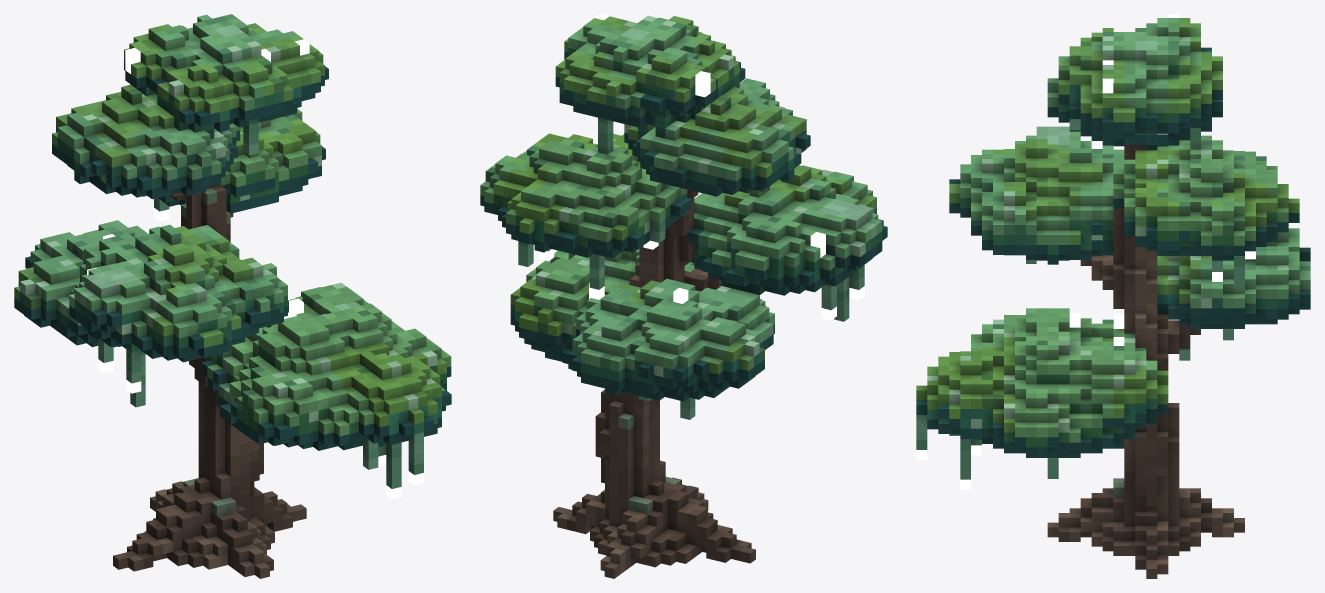
Rendered from tree-cloud-l.glb.
The picture shows the model from 3 angles, left to right: view 1: azimuth 30°, elevation 25°; view 2: azimuth 150°, elevation 25°; view 3: azimuth 270°, elevation 25°; orthographic projection. The views are drawn at different scales.
Parts seen in each view (by area): view 1: TREE_CLOUD_L__details; view 2: TREE_CLOUD_L__details; view 3: TREE_CLOUD_L__details.
Part boxes in pixels (bbox=[...]): TREE_CLOUD_L__details: bbox=[14, 14, 451, 578]; TREE_CLOUD_L__details: bbox=[480, 14, 887, 578]; TREE_CLOUD_L__details: bbox=[916, 14, 1310, 578].
Bounding box in the file's own units: 1.44 × 2 × 1.44.
